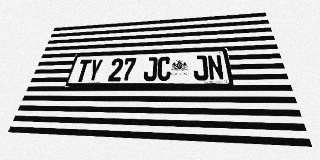2: (108, 58, 124, 82)
7: (121, 58, 136, 81)
C: (157, 56, 171, 81)
J: (193, 55, 209, 81), (143, 57, 158, 81)
N: (207, 55, 225, 80)
T: (74, 59, 92, 82)
Y: (86, 59, 103, 82)
